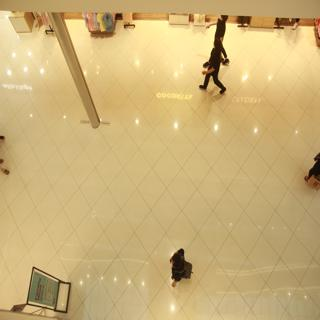person: (159, 235, 198, 301), (201, 37, 230, 103)
